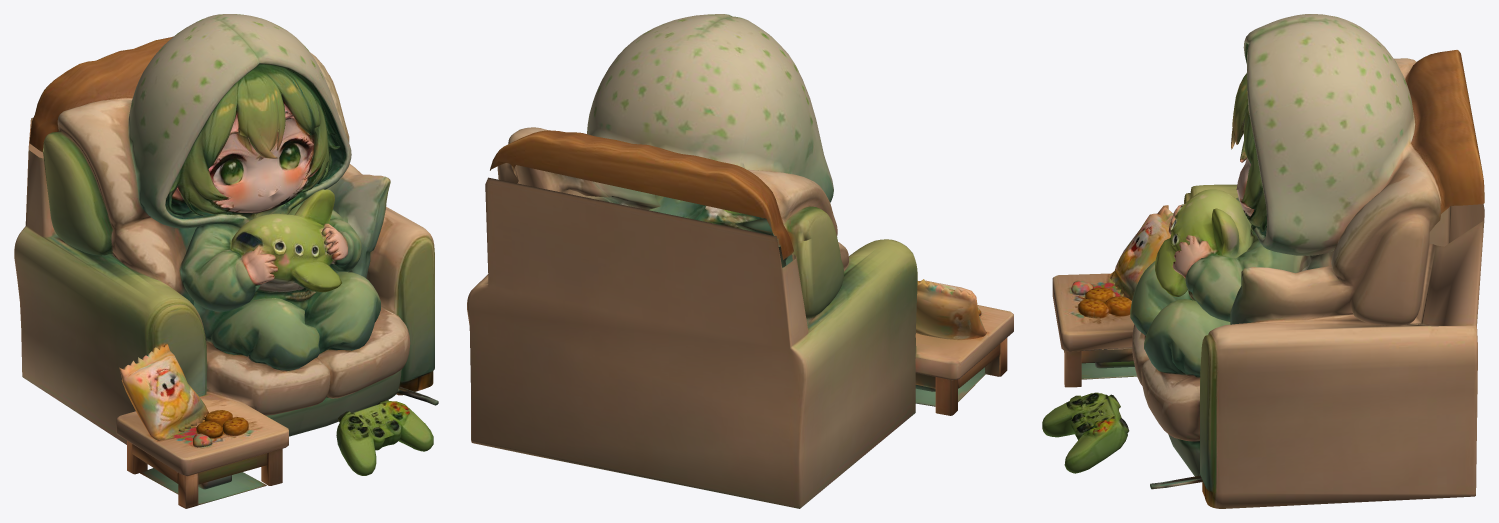
The picture shows the model from 3 angles, left to right: view 1: azimuth 30°, elevation 25°; view 2: azimuth 150°, elevation 25°; view 3: azimuth 270°, elevation 25°; orthographic projection. The views are drawn at different scales.
Visible parts, largest first — view 1: material; view 2: material; view 3: material.
Boxes of the visible parts, bbox=[...] form: material: bbox=[14, 14, 438, 508]; material: bbox=[467, 14, 1013, 508]; material: bbox=[1042, 14, 1484, 508].
Bounding box in the file's own units: 1.82 × 1.9 × 1.88.
1 material, 1 textured.
